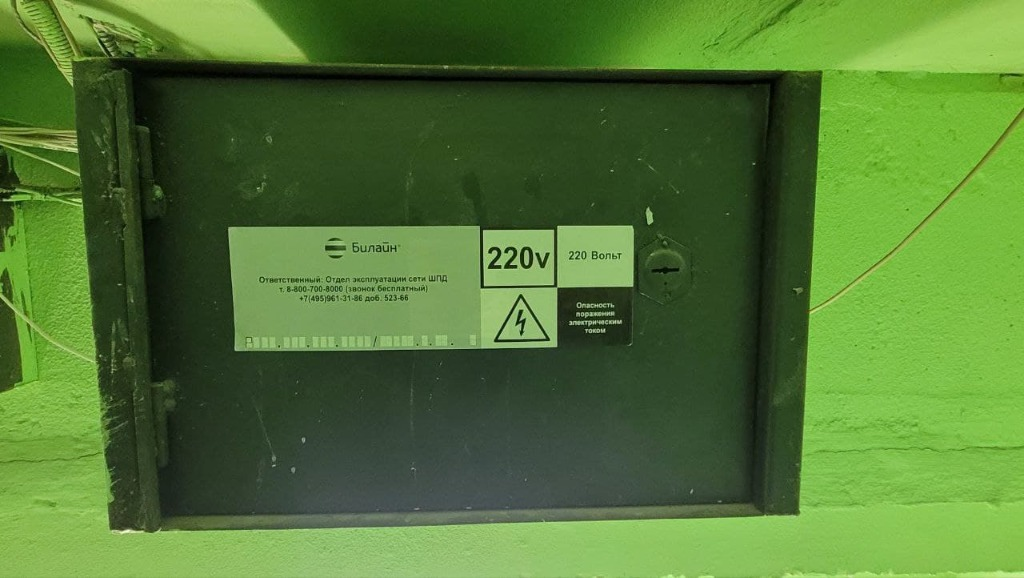e2-6u: (58, 49, 833, 540)
